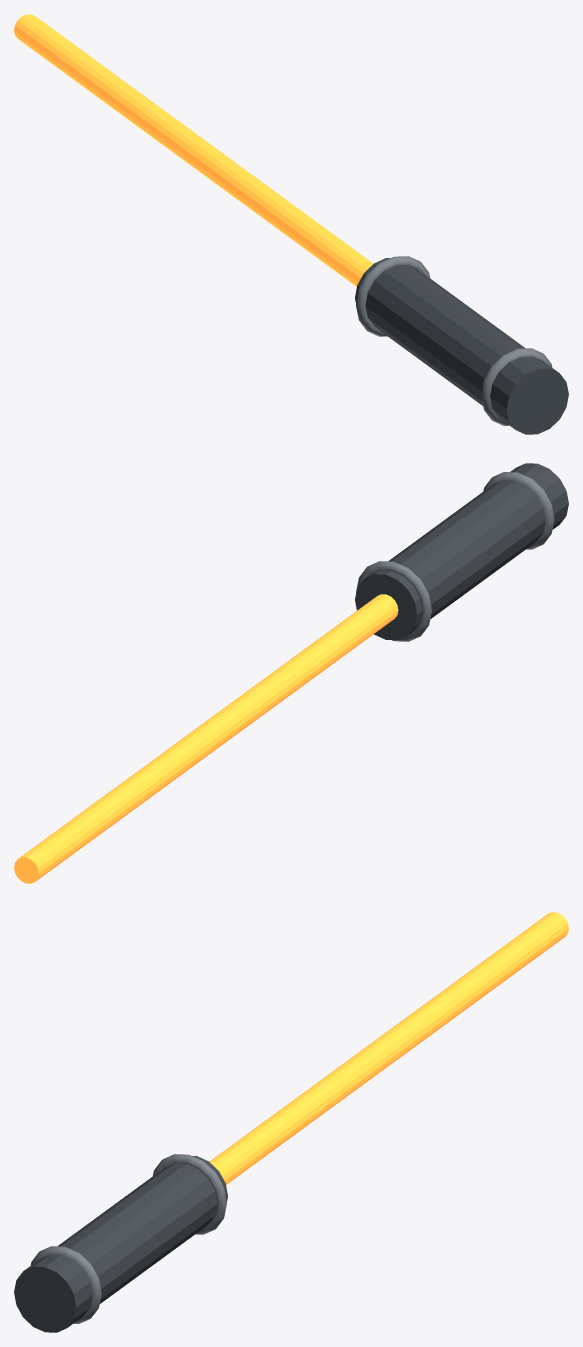
Rendered from WPN_Lightsaber_Prototype_FP_v01.glb.
3 renders of one model, top to bottom at view 1: azimuth 30°, elevation 25°; view 2: azimuth 150°, elevation 25°; view 3: azimuth 330°, elevation 25°, orthographic.
Visible parts, largest first — view 1: MESH_Handle, MESH_Blade; view 2: MESH_Handle, MESH_Blade; view 3: MESH_Handle, MESH_Blade.
Part boxes in pixels (x1,y1,x2,y2): MESH_Handle: (355,256,568,434); MESH_Blade: (14,14,373,286); MESH_Handle: (355,463,568,641); MESH_Blade: (14,594,398,883); MESH_Handle: (14,1154,227,1332); MESH_Blade: (209,912,568,1184).
Bounding box in the file's own units: 0.11 × 0.11 × 1.28.
